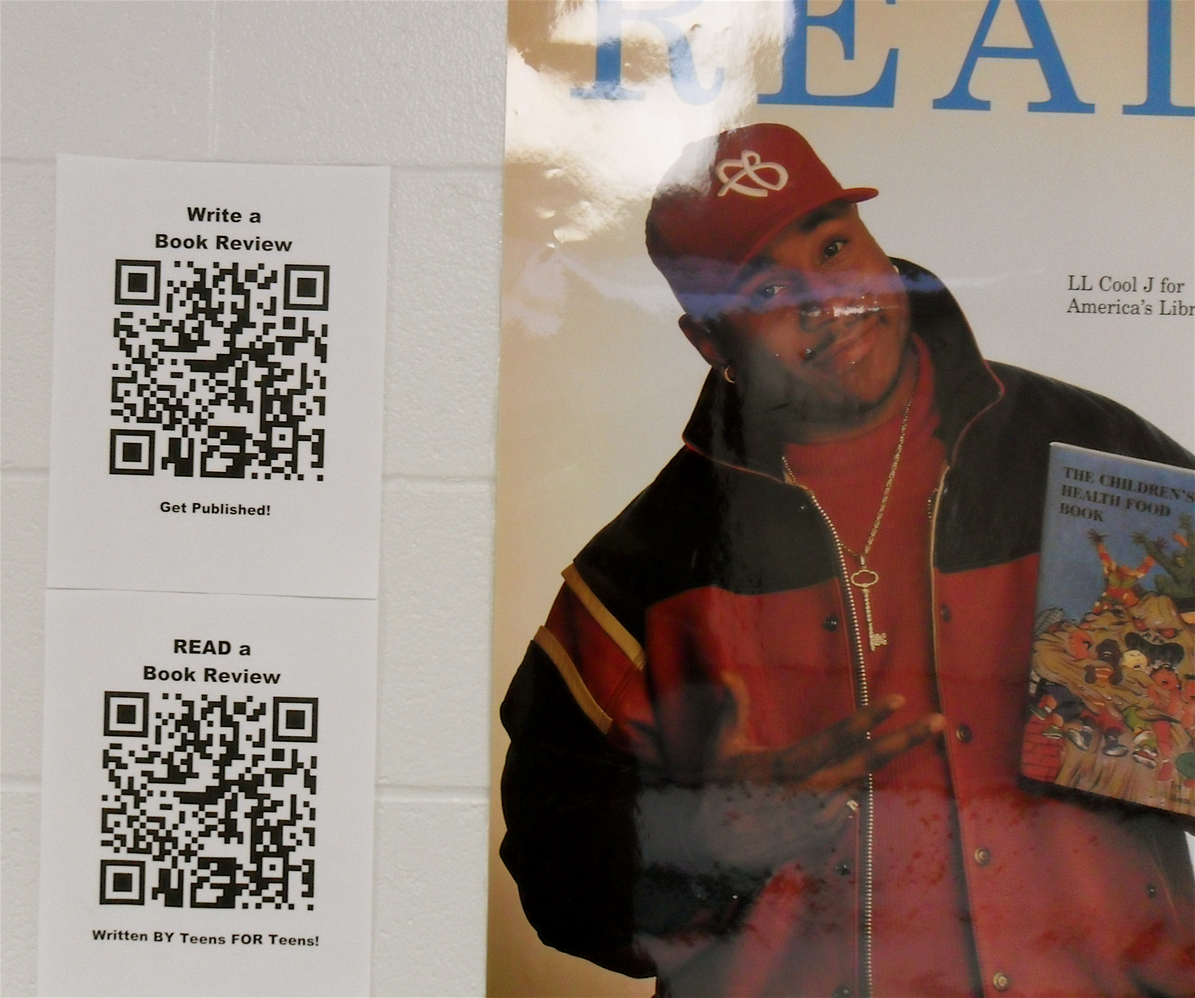QR-CODE: (109, 259, 330, 481), (99, 690, 318, 910)
